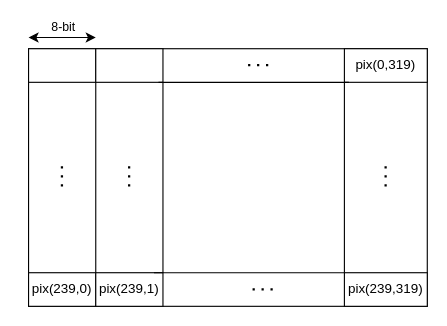
Some shapes in this 447 by 326 pixel diagram are drawn without their labels. Here are the shapes that lost their labels. From the top down, the centre of each, then its label:
At [61,65]: "pix(0,0)".
At [129,65]: "pix(0,1)".
